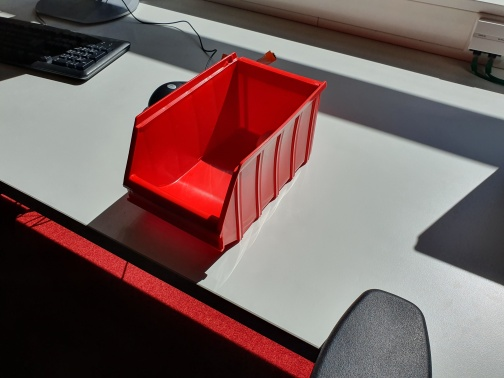tray_front: (122, 113, 242, 253)
tray_right: (218, 76, 327, 255)
